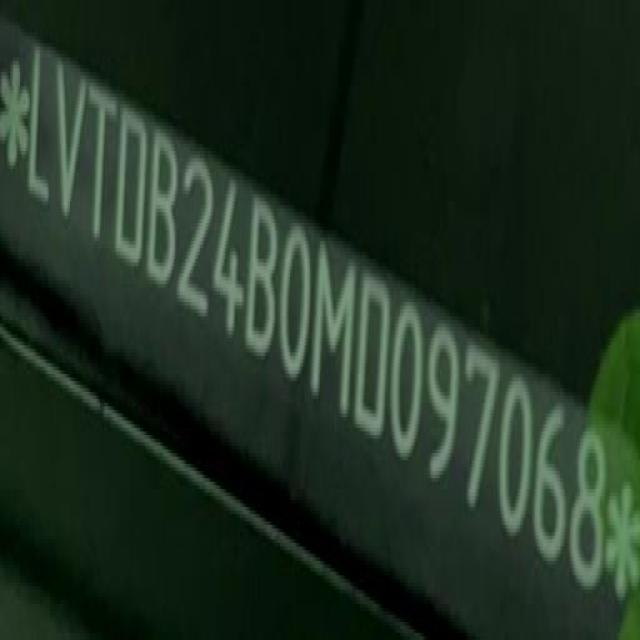0: (493, 378, 543, 553), (388, 294, 430, 475), (279, 218, 319, 394)
2: (178, 156, 216, 322)
4: (210, 172, 247, 346)
6: (528, 395, 578, 574)
7: (456, 342, 501, 525)
8: (564, 422, 614, 598)
9: (420, 316, 466, 498)
B: (244, 196, 283, 368), (144, 130, 180, 296)
D: (353, 268, 395, 455), (113, 109, 151, 274)
L: (26, 46, 58, 212)
M: (308, 238, 361, 427)
T: (86, 82, 120, 247)
V: (53, 58, 90, 231)
